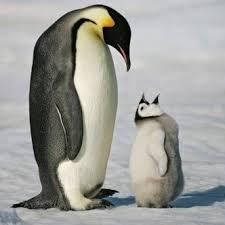emporer: (15, 0, 137, 220)
